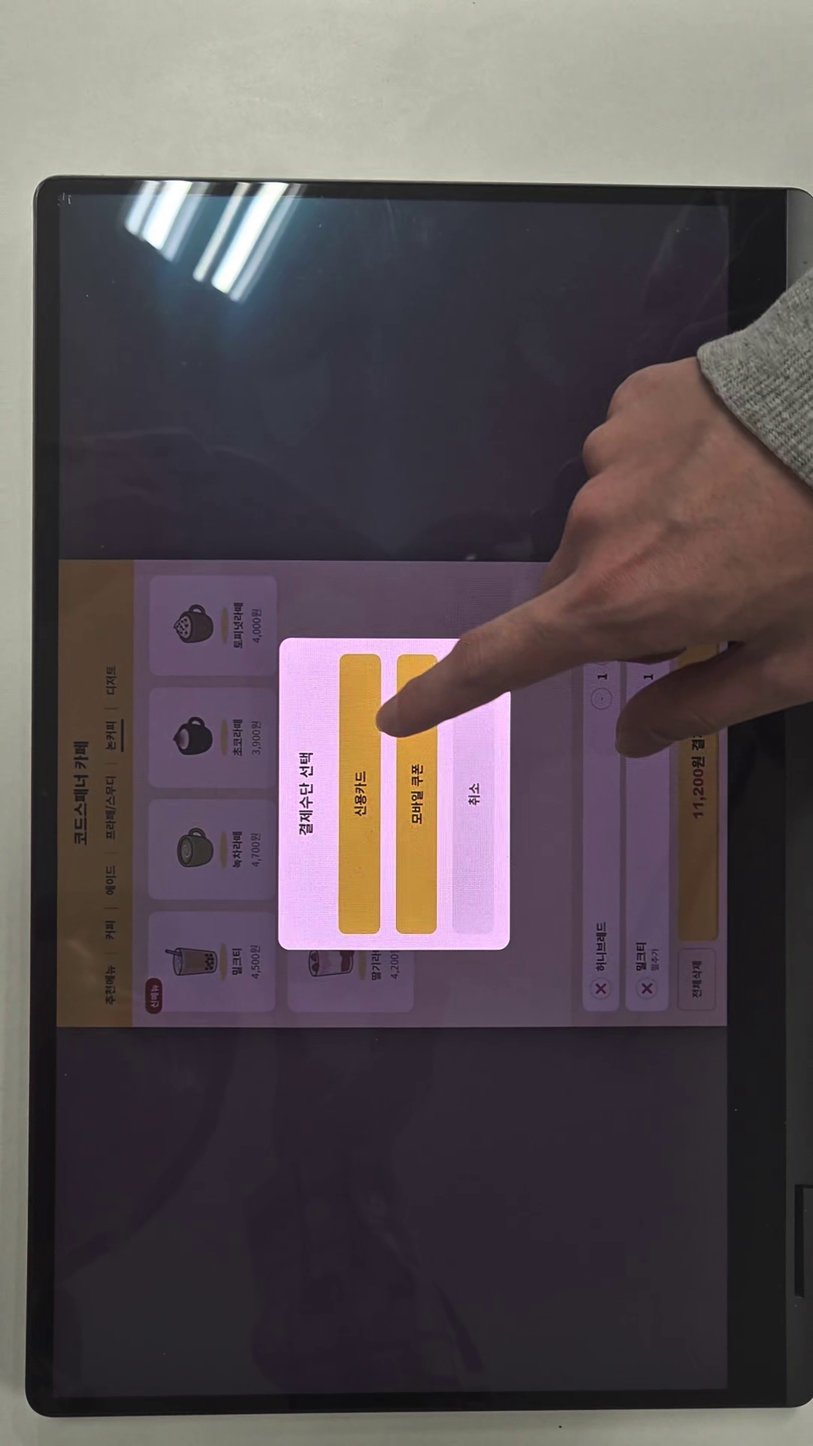action_button: (677, 948, 716, 1010)
category_tab: (103, 775, 118, 840), (103, 964, 117, 1006), (104, 720, 118, 751), (105, 664, 118, 697), (104, 865, 117, 896), (104, 919, 117, 941)
menu_back: (149, 575, 278, 677), (149, 687, 277, 789), (149, 799, 277, 900), (148, 911, 276, 1011)
menu_name: (232, 602, 244, 650), (231, 830, 243, 869), (232, 718, 244, 757), (230, 947, 243, 976)
menu_price: (249, 832, 263, 868), (249, 944, 263, 980), (250, 721, 263, 756), (251, 608, 263, 644)
option_button: (339, 654, 380, 934), (397, 654, 437, 933)
popup_modal: (279, 638, 510, 949)
